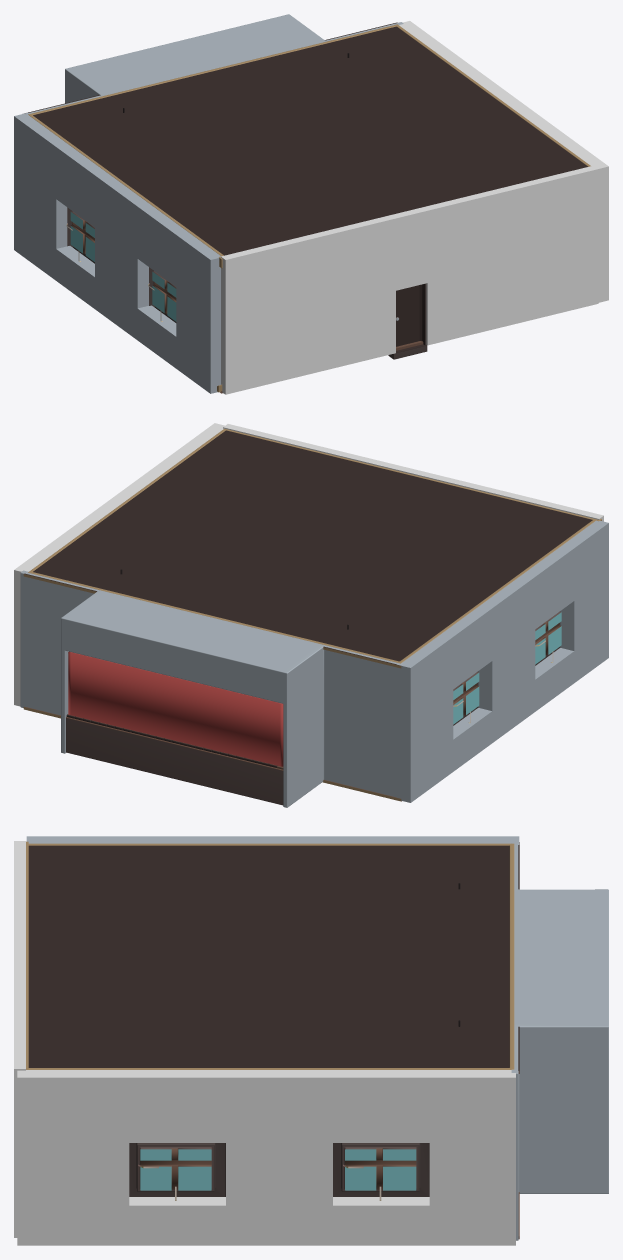
The model's file is Aula.fbx.
The picture shows the model from 3 angles, top to bottom: view 1: azimuth 30°, elevation 25°; view 2: azimuth 150°, elevation 25°; view 3: azimuth 270°, elevation 25°; orthographic projection. The views are drawn at different scales.
Parts seen in each view (by area): view 1: Decke.001, Wand.007, Wand.005, Wand, Wand.006, Cube.007, Cube.009, Tür.001; view 2: Decke.001, Wand, Wand.005, Vorhang.01, Bühne, Wand.006, Cube.007, Wand.007, Cube.009; view 3: Decke.001, Wand.006, Wand, Cube.010, Cube.007, Wand.005, Wand.007.
Part boxes in pixels (x1=…): Decke.001: x1=24, y1=22, x2=587, y2=255; Wand.007: x1=221, y1=165, x2=598, y2=394; Wand.005: x1=14, y1=112, x2=220, y2=393; Wand: x1=25, y1=14, x2=403, y2=115; Wand.006: x1=399, y1=21, x2=608, y2=302; Cube.007: x1=28, y1=24, x2=590, y2=268; Cube.009: x1=66, y1=207, x2=176, y2=322; Tür.001: x1=388, y1=283, x2=427, y2=359; Decke.001: x1=23, y1=430, x2=592, y2=668; Wand: x1=20, y1=570, x2=402, y2=807; Wand.005: x1=396, y1=520, x2=608, y2=802; Vorhang.01: x1=68, y1=651, x2=283, y2=766; Bühne: x1=66, y1=714, x2=283, y2=805; Wand.006: x1=14, y1=423, x2=224, y2=706; Cube.007: x1=28, y1=428, x2=601, y2=663; Wand.007: x1=223, y1=424, x2=603, y2=521; Cube.009: x1=453, y1=611, x2=561, y2=725; Decke.001: x1=28, y1=842, x2=519, y2=1073; Wand.006: x1=17, y1=1070, x2=515, y2=1245; Wand: x1=511, y1=843, x2=608, y2=1240; Cube.010: x1=129, y1=1143, x2=429, y2=1200; Cube.007: x1=26, y1=841, x2=514, y2=1069; Wand.005: x1=26, y1=836, x2=519, y2=844; Wand.007: x1=14, y1=841, x2=25, y2=1237.
Size of the model in its own units: 1657 by 584 by 1727.
